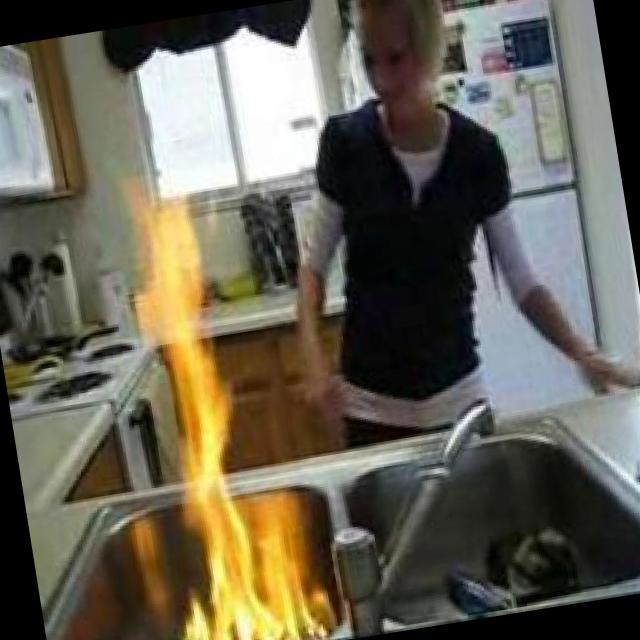Fire: (119, 187, 332, 640)
